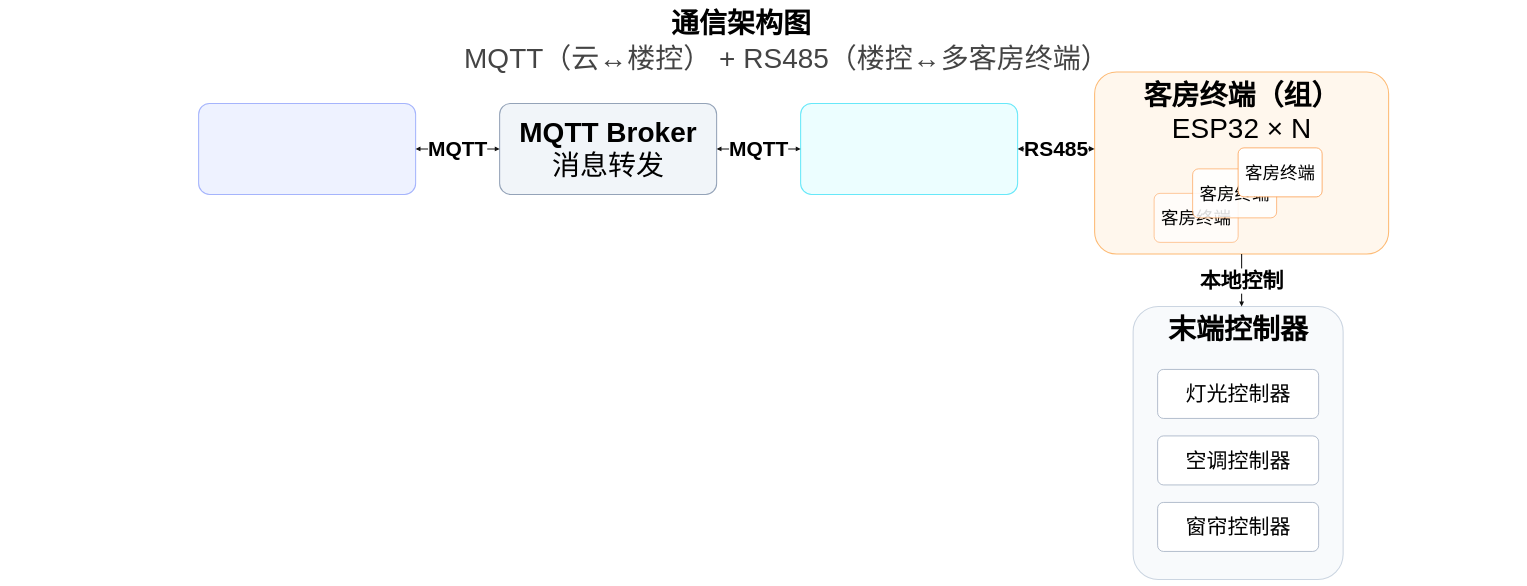
This 1527x586 diagram has some shape labels left out. The centre of each missing label's shape, as x and y in pixels:
"云端服务器 业务服务 / API" goes at (307,149).
"楼控节点 ESP32" goes at (909,149).
